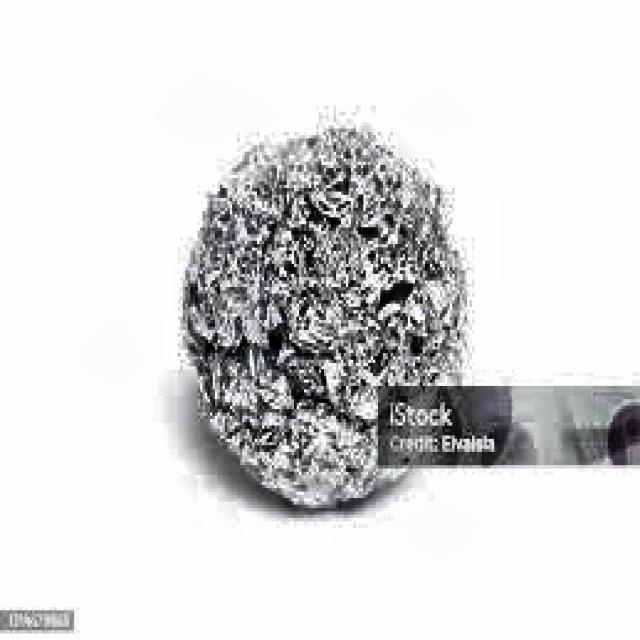Foil: (164, 108, 465, 539)
